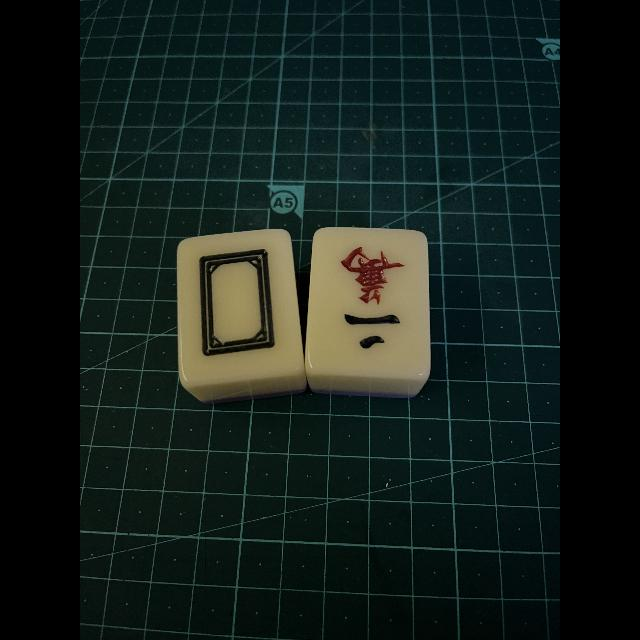c2: (312, 230, 428, 368)
dw: (180, 236, 294, 374)
